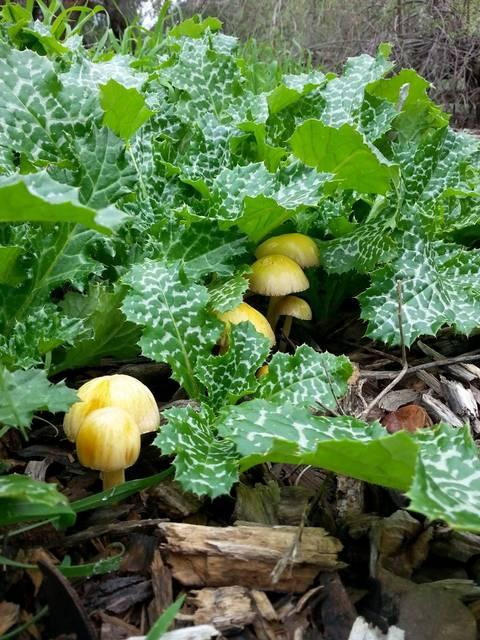edible_mushroom: (62, 372, 160, 441), (74, 405, 141, 490), (214, 301, 275, 351), (243, 253, 309, 297), (253, 231, 320, 268), (267, 294, 312, 340)
